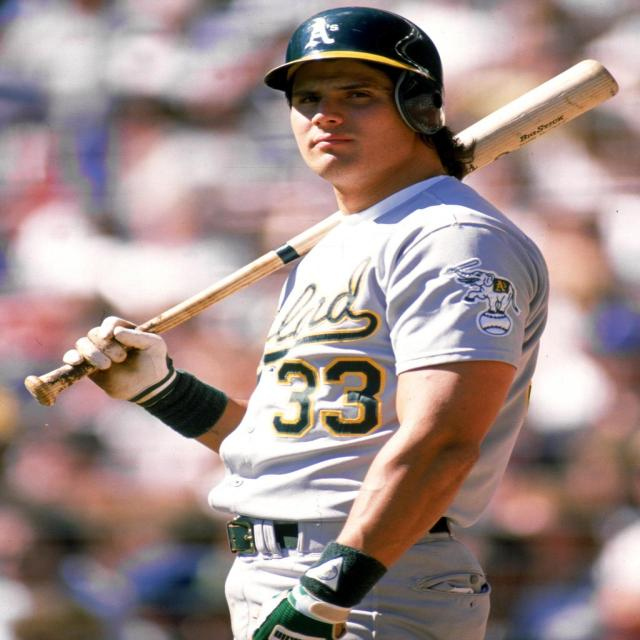nomask: (288, 55, 400, 183)
